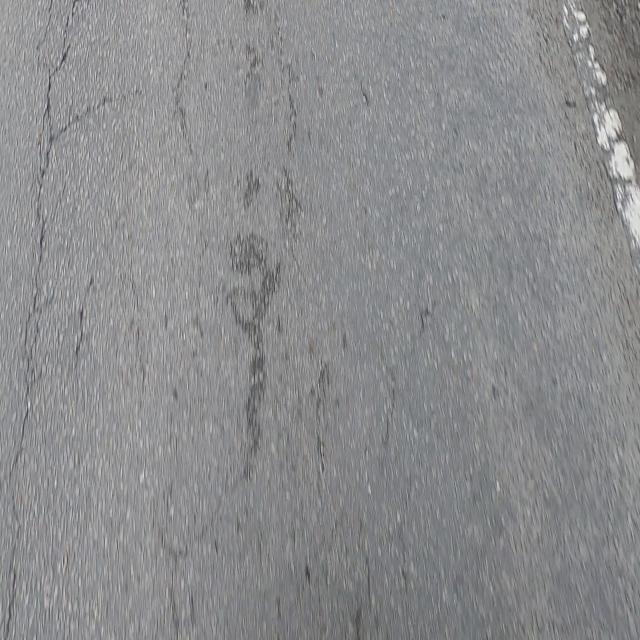Retak-Memanjang: (2, 40, 72, 637)
